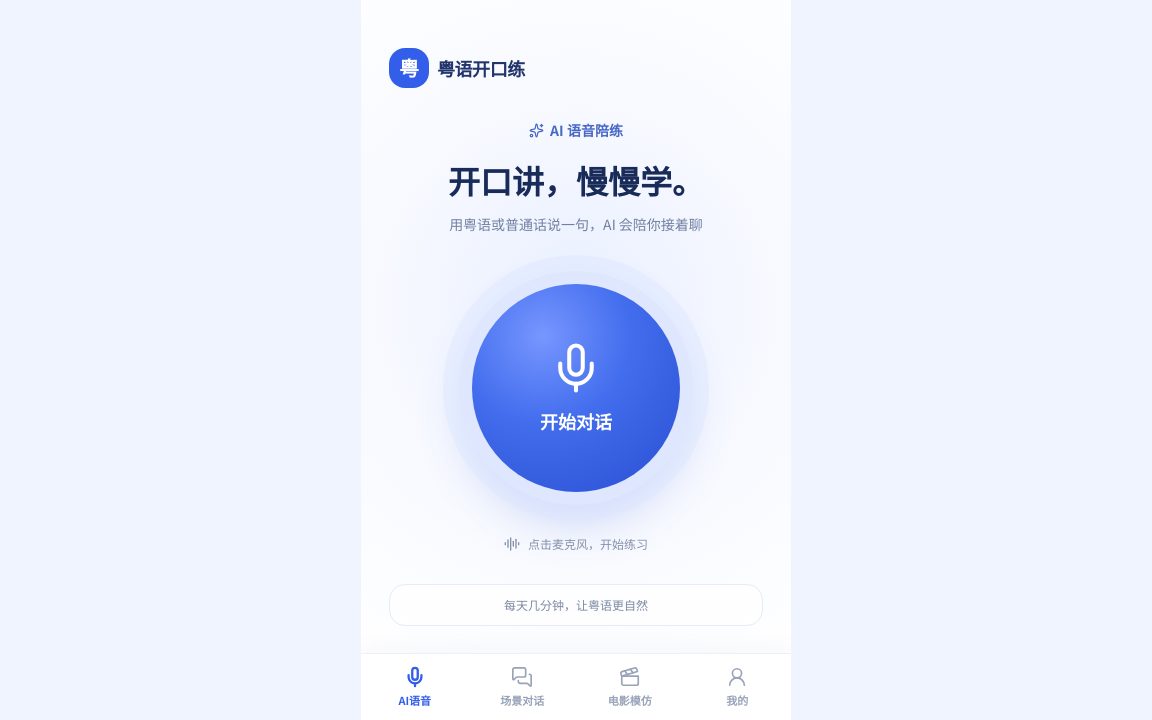
it: 简化后的核心导航 › 点击主麦克风打开现有 AI 对话
Click the button with aria-label "开始 AI 语音对话": (576, 388) [472,284,680,492]
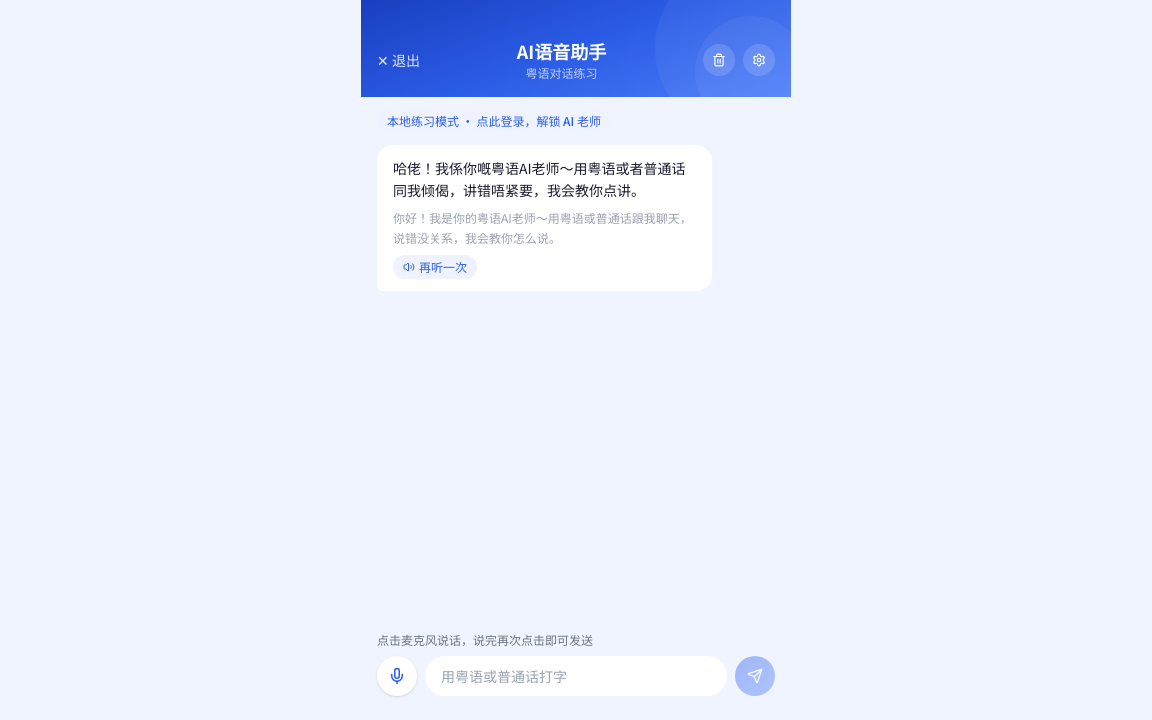
Check: the text "AI语音助手" is shown, box [517,40,606,62]
